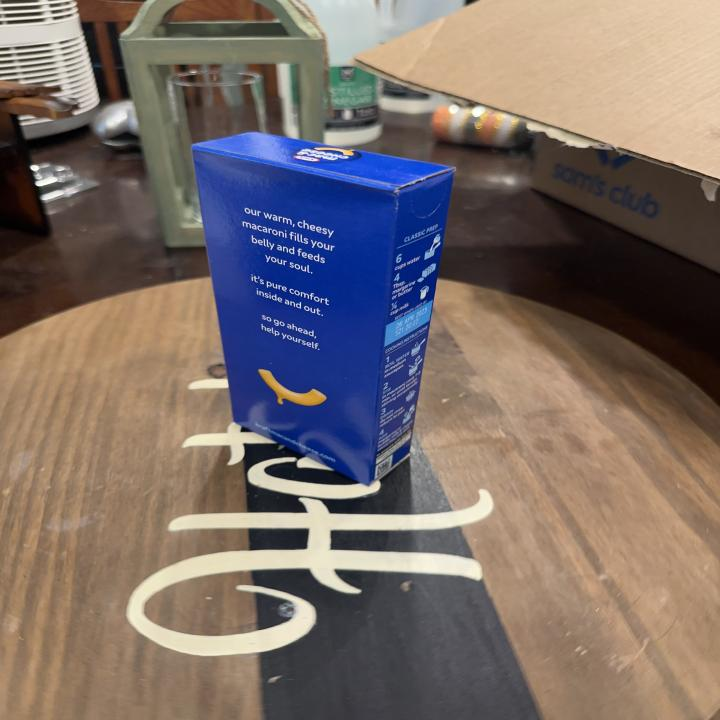Mac-And-Cheese: (193, 125, 461, 485)
